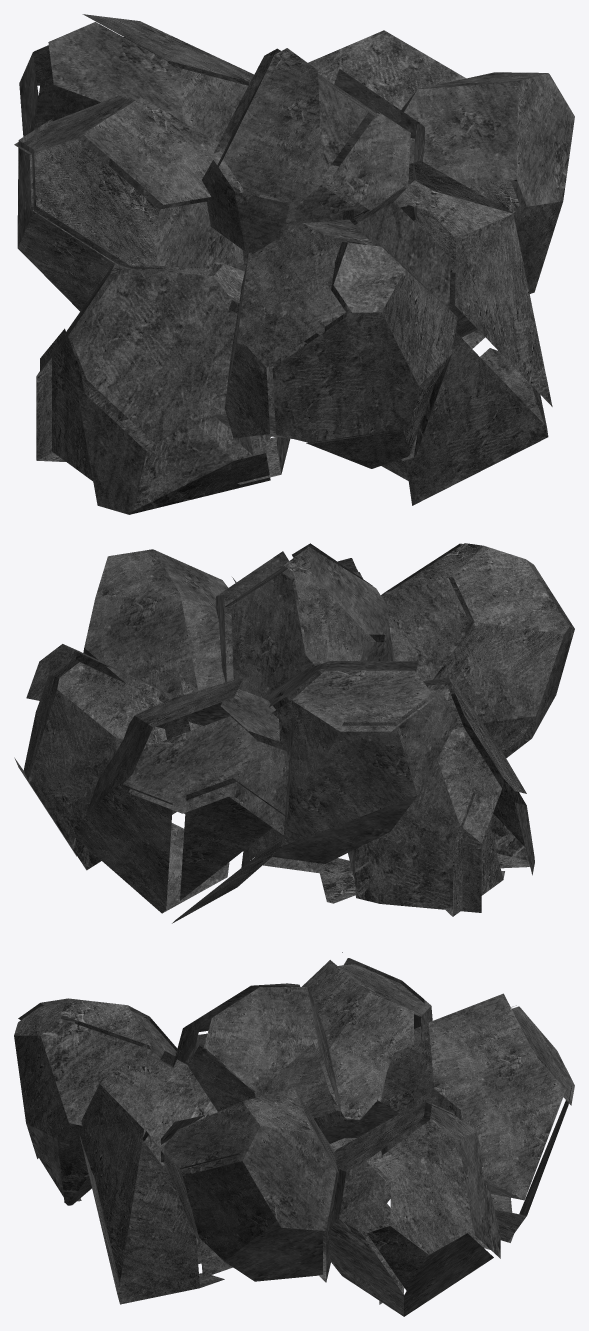
Rendered from Stone9.obj.
The picture shows the model from 3 angles, top to bottom: view 1: azimuth 30°, elevation 25°; view 2: azimuth 150°, elevation 25°; view 3: azimuth 270°, elevation 25°; orthographic projection. The views are drawn at different scales.
Parts seen in each view (by area): view 1: Object015; view 2: Object015; view 3: Object015.
Boxes of the visible parts, x1,y1,x2,y2 form: Object015: [14, 14, 574, 514]; Object015: [14, 543, 574, 923]; Object015: [14, 952, 574, 1316].
Bounding box in the file's own units: 181 × 130 × 226.
Materials: 1 (1 with a texture image).
